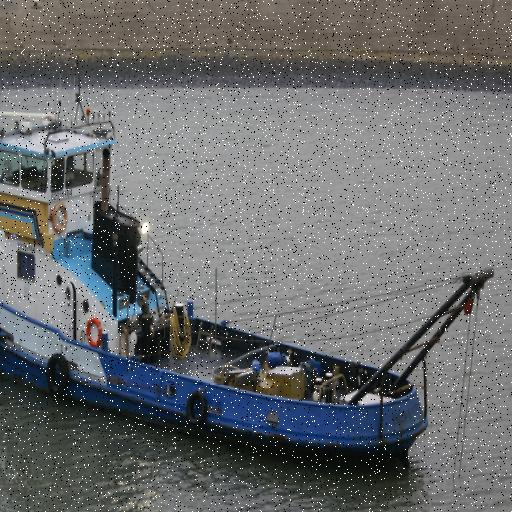tugboat: (1, 98, 499, 480)
